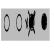correct: (42, 10, 48, 32)
not correct: (25, 8, 36, 39)
